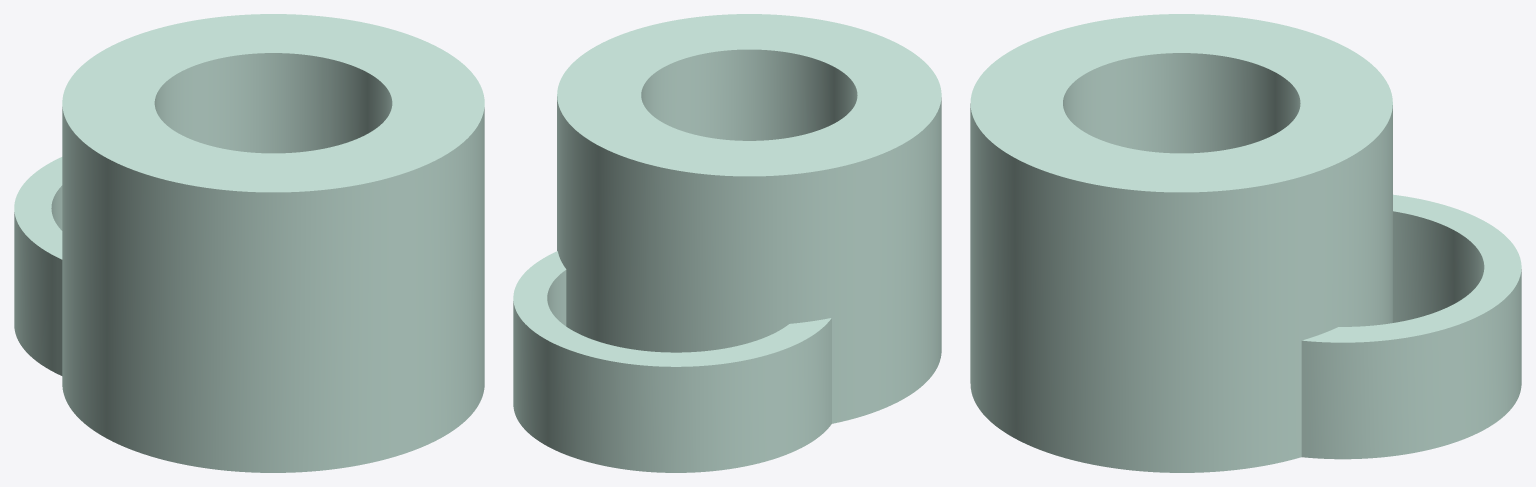
The picture shows the model from 3 angles, left to right: view 1: azimuth 30°, elevation 25°; view 2: azimuth 150°, elevation 25°; view 3: azimuth 270°, elevation 25°; orthographic projection. The views are drawn at different scales.
Visible parts, largest first — view 1: Renderer Node; view 2: Renderer Node; view 3: Renderer Node.
Part boxes in pixels (box(x1,y1,x2,y2)): Renderer Node: box(14, 14, 484, 472); Renderer Node: box(513, 14, 941, 472); Renderer Node: box(970, 14, 1521, 472).
Size of the model in its own units: 0.821 by 0.6016 by 1.07.
